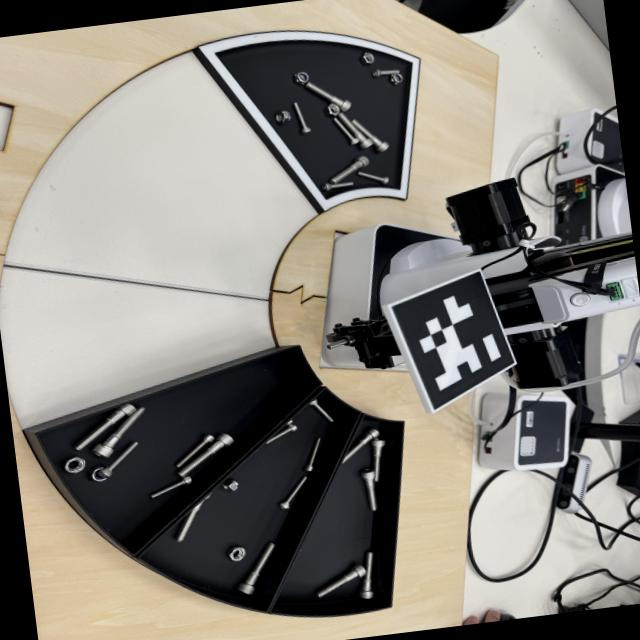big: (87, 395, 149, 464), (166, 423, 240, 479), (67, 399, 137, 455), (231, 535, 277, 601), (170, 484, 214, 547), (308, 561, 366, 599), (329, 106, 374, 151), (299, 77, 352, 115), (334, 425, 381, 467), (345, 111, 391, 153), (323, 153, 371, 190), (355, 549, 376, 601), (356, 468, 378, 513), (368, 439, 389, 483)
board: (191, 6, 435, 230)
box: (1, 251, 329, 572), (119, 338, 362, 631), (262, 405, 405, 624)
circle: (59, 452, 89, 477), (85, 463, 113, 486), (223, 544, 249, 565), (268, 106, 295, 126), (215, 476, 243, 495), (382, 70, 406, 89), (319, 101, 343, 120), (287, 70, 311, 89), (355, 50, 377, 66)
small: (95, 432, 142, 481), (165, 428, 215, 471), (273, 467, 311, 513), (257, 418, 304, 449), (302, 394, 341, 429), (326, 113, 361, 150), (143, 474, 192, 500), (283, 99, 314, 138), (299, 432, 322, 473), (353, 168, 390, 188), (369, 64, 400, 79), (319, 180, 355, 192)
